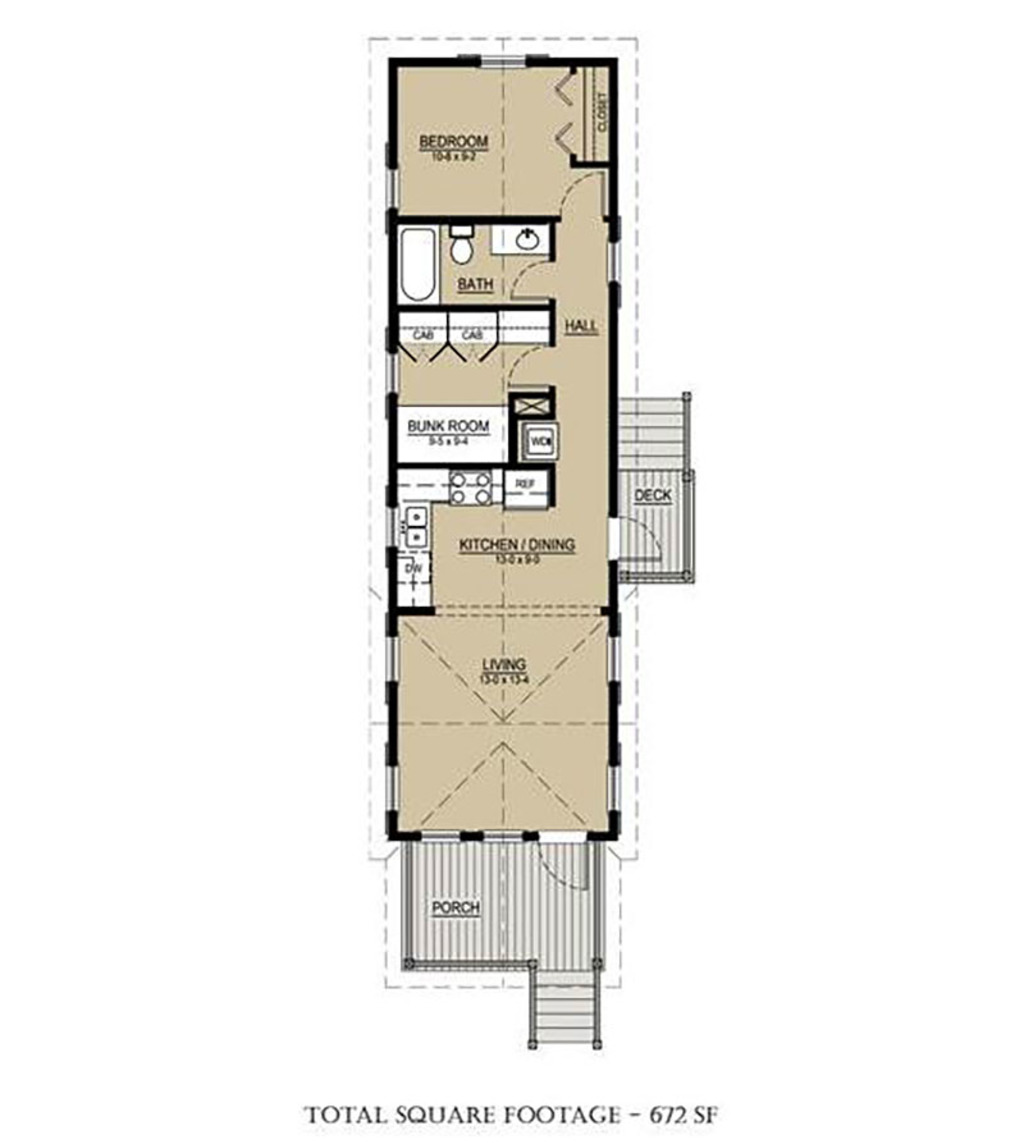door: (609, 516, 658, 565), (548, 175, 608, 215), (503, 345, 554, 389)
large_sink: (490, 222, 553, 256), (443, 223, 481, 266)
stairs: (522, 961, 603, 1053)
tub: (393, 227, 445, 305)
windows: (601, 758, 626, 816), (598, 630, 621, 687), (379, 159, 405, 209), (378, 630, 399, 687), (381, 763, 406, 810), (475, 50, 523, 67), (414, 827, 461, 842), (475, 831, 522, 839)
